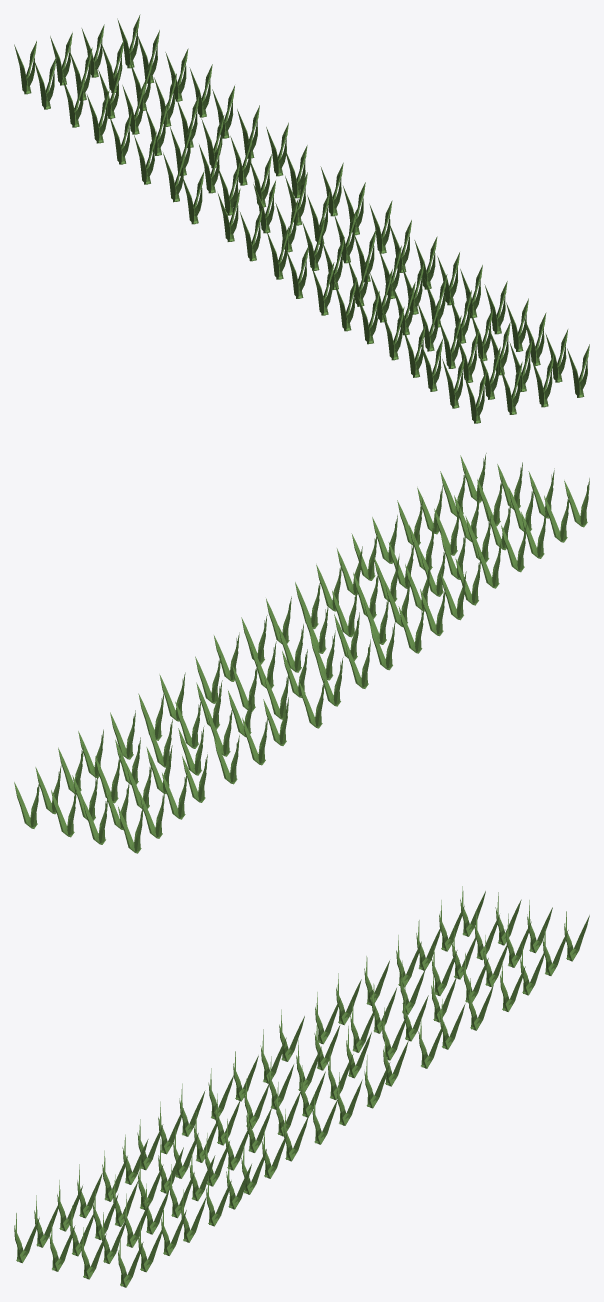
Rendered from grass1.014.fbx.
The picture shows the model from 3 angles, top to bottom: view 1: azimuth 30°, elevation 25°; view 2: azimuth 150°, elevation 25°; view 3: azimuth 330°, elevation 25°; orthographic projection.
Parts seen in each view (by area): view 1: grass1.014; view 2: grass1.014; view 3: grass1.014.
Boxes of the visible parts, box(x1,y1,x2,y2) form: grass1.014: box(14, 14, 589, 423); grass1.014: box(14, 453, 589, 853); grass1.014: box(14, 886, 589, 1287).
Size of the model in its own units: 125 by 43.02 by 723.
